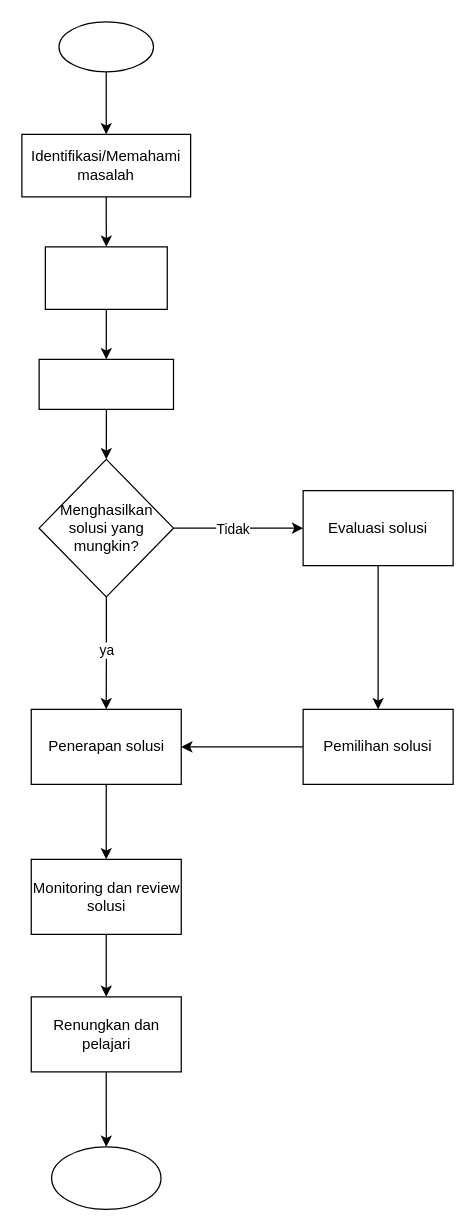
The diagram is 475 pixels wide and 1231 high, and some of its shapes have lost their labels. The shapes that lost their labels are listed below. From the top down, each one's centre as x and y in pixels, then its label:
point (106, 46): Mulai
point (105, 277): Mengumpulkan informasi
point (106, 383): Menganalisis data
point (105, 1177): Selesai
